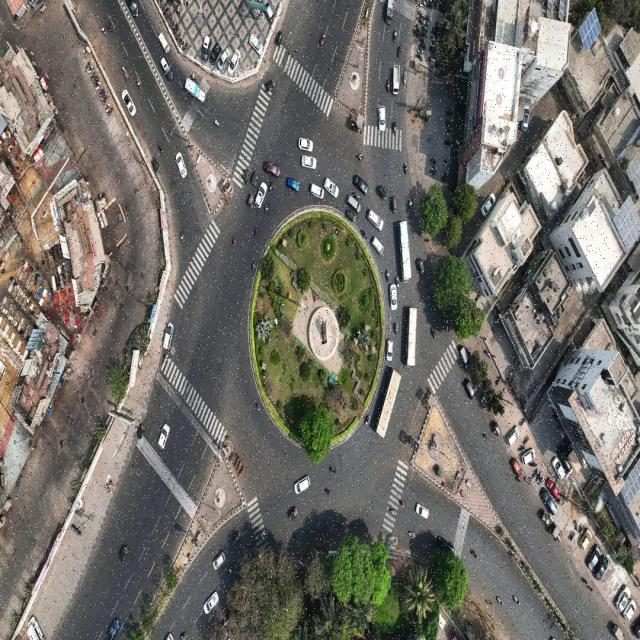3W: (118, 544, 130, 566), (136, 421, 146, 442), (416, 258, 426, 279), (286, 506, 299, 522), (251, 167, 260, 190), (230, 531, 242, 548), (465, 380, 475, 400), (247, 189, 255, 213), (150, 154, 160, 173), (377, 183, 387, 202), (242, 166, 251, 187), (491, 422, 502, 437), (391, 193, 398, 216), (275, 29, 283, 49), (265, 79, 277, 92), (345, 209, 357, 222)
Bus: (375, 367, 402, 441), (397, 219, 413, 286), (404, 303, 420, 370)
Cars: (538, 482, 557, 518), (614, 582, 632, 614), (120, 87, 137, 119), (592, 554, 609, 584), (585, 545, 602, 573), (162, 318, 175, 354), (227, 47, 241, 80), (550, 455, 566, 483), (518, 101, 531, 135), (292, 474, 312, 496), (481, 191, 496, 220), (366, 208, 384, 232), (203, 591, 220, 616), (576, 528, 593, 553), (557, 443, 571, 473), (436, 536, 455, 558), (544, 475, 560, 501), (248, 31, 264, 57), (323, 175, 340, 199), (509, 455, 523, 483), (104, 617, 121, 640), (200, 34, 212, 66), (255, 181, 268, 210), (352, 173, 369, 195), (157, 30, 171, 56), (160, 55, 173, 83), (262, 159, 281, 178), (175, 150, 187, 180), (158, 423, 170, 452), (623, 598, 636, 624), (505, 425, 520, 447), (377, 103, 388, 133), (457, 345, 470, 370), (300, 152, 317, 171), (520, 448, 536, 468), (345, 194, 361, 214), (414, 500, 429, 520), (217, 48, 230, 71), (370, 237, 386, 255), (209, 42, 221, 66), (127, 0, 140, 22), (310, 181, 324, 201), (262, 0, 274, 23), (298, 136, 314, 153), (389, 282, 398, 312), (284, 177, 300, 193), (213, 550, 226, 569), (386, 338, 393, 364)
LCV: (184, 76, 207, 104), (612, 623, 626, 640), (393, 64, 400, 96)
M2W: (121, 65, 129, 81), (230, 234, 238, 250), (135, 77, 144, 91), (470, 548, 479, 562), (104, 20, 112, 33), (512, 593, 520, 606), (392, 27, 397, 47), (360, 227, 369, 238), (319, 34, 326, 48), (496, 594, 503, 608), (227, 562, 234, 576), (212, 116, 220, 128), (402, 70, 408, 86), (431, 324, 437, 340), (532, 468, 539, 481), (578, 522, 585, 535), (260, 529, 267, 542), (396, 44, 402, 59), (392, 120, 397, 138), (355, 152, 365, 161), (570, 529, 576, 544), (180, 630, 189, 640), (407, 529, 416, 539), (327, 466, 337, 475), (255, 402, 262, 414), (179, 230, 185, 244), (511, 354, 518, 366), (536, 472, 542, 486), (324, 486, 331, 498), (190, 73, 198, 83), (385, 266, 390, 282), (388, 506, 396, 516), (158, 141, 164, 154), (364, 414, 370, 427), (251, 260, 257, 273), (264, 202, 270, 215), (100, 24, 106, 36), (253, 224, 259, 236), (268, 180, 272, 197), (403, 163, 408, 176), (408, 199, 413, 212), (400, 499, 407, 508), (539, 476, 544, 488), (386, 80, 390, 94), (448, 91, 455, 99), (396, 276, 400, 290), (446, 119, 452, 128), (445, 129, 452, 136), (442, 170, 449, 177), (429, 170, 436, 177), (430, 165, 438, 171), (440, 178, 449, 183), (430, 158, 436, 165), (447, 109, 453, 116), (443, 160, 449, 167), (395, 322, 398, 335), (445, 140, 450, 145)
